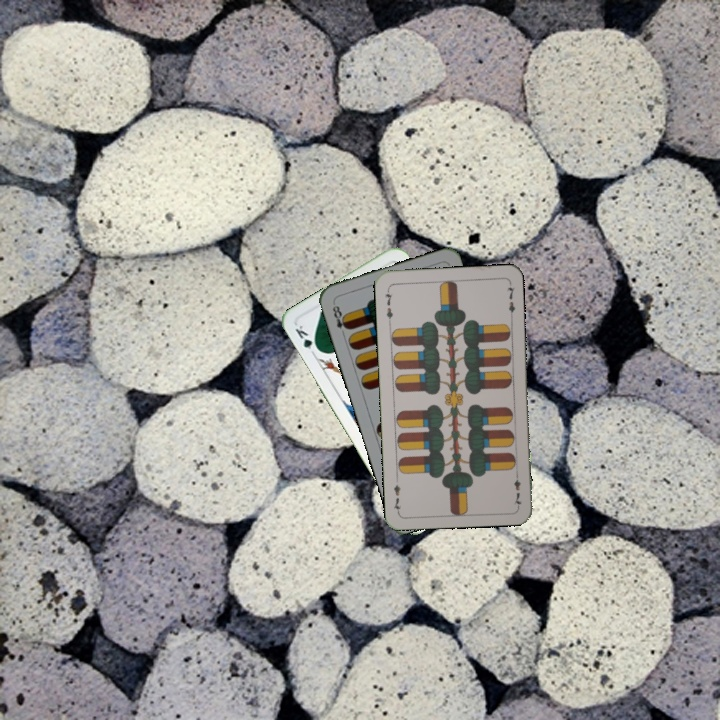E7: (381, 285, 395, 325), (510, 468, 524, 508)
E8: (328, 299, 352, 339)
GK: (291, 321, 322, 358)
